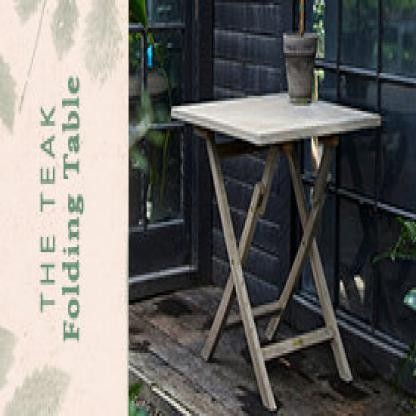table: (165, 86, 384, 414)
